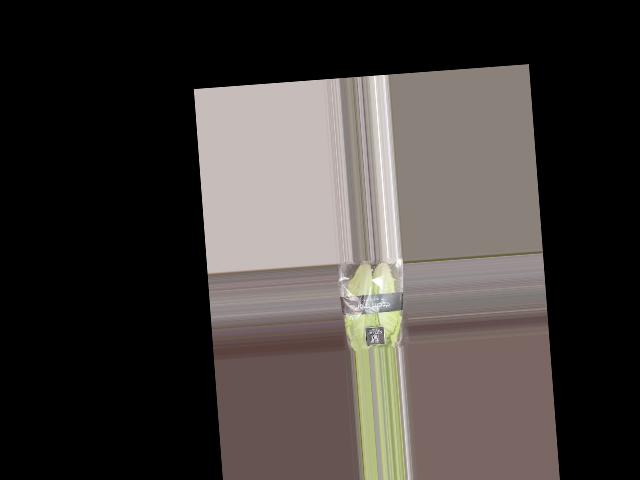lettuce: (341, 257, 408, 350)
